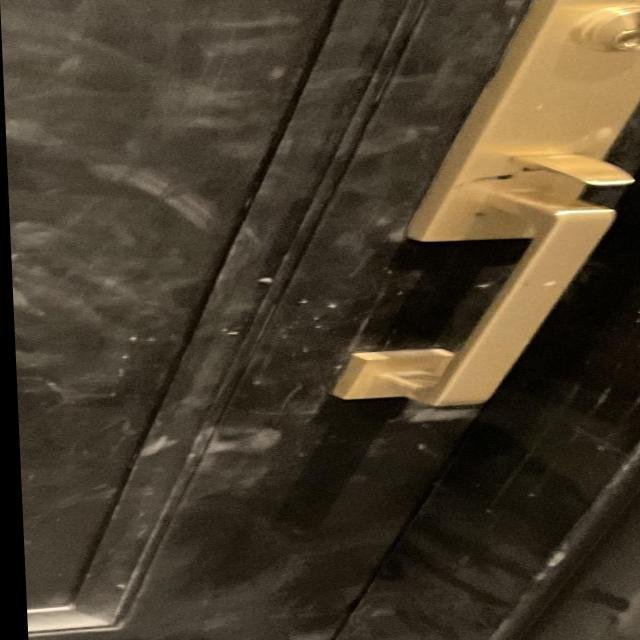door_handle: (330, 188, 640, 420)
